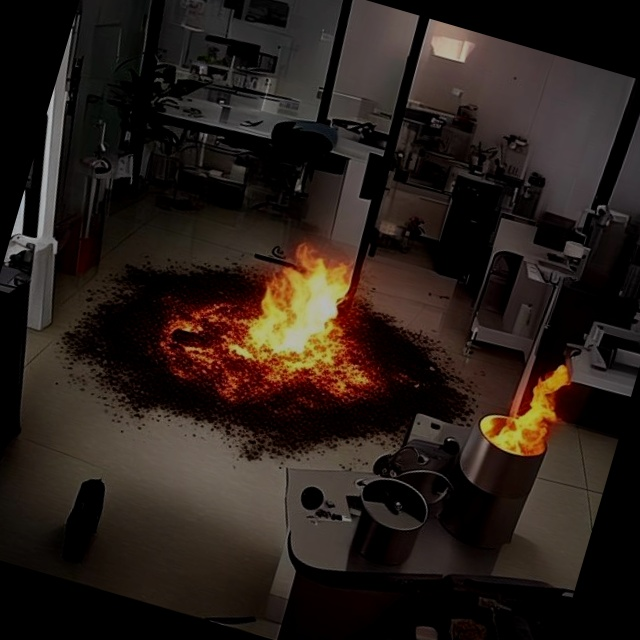fire: (157, 209, 399, 445), (459, 321, 599, 496)
